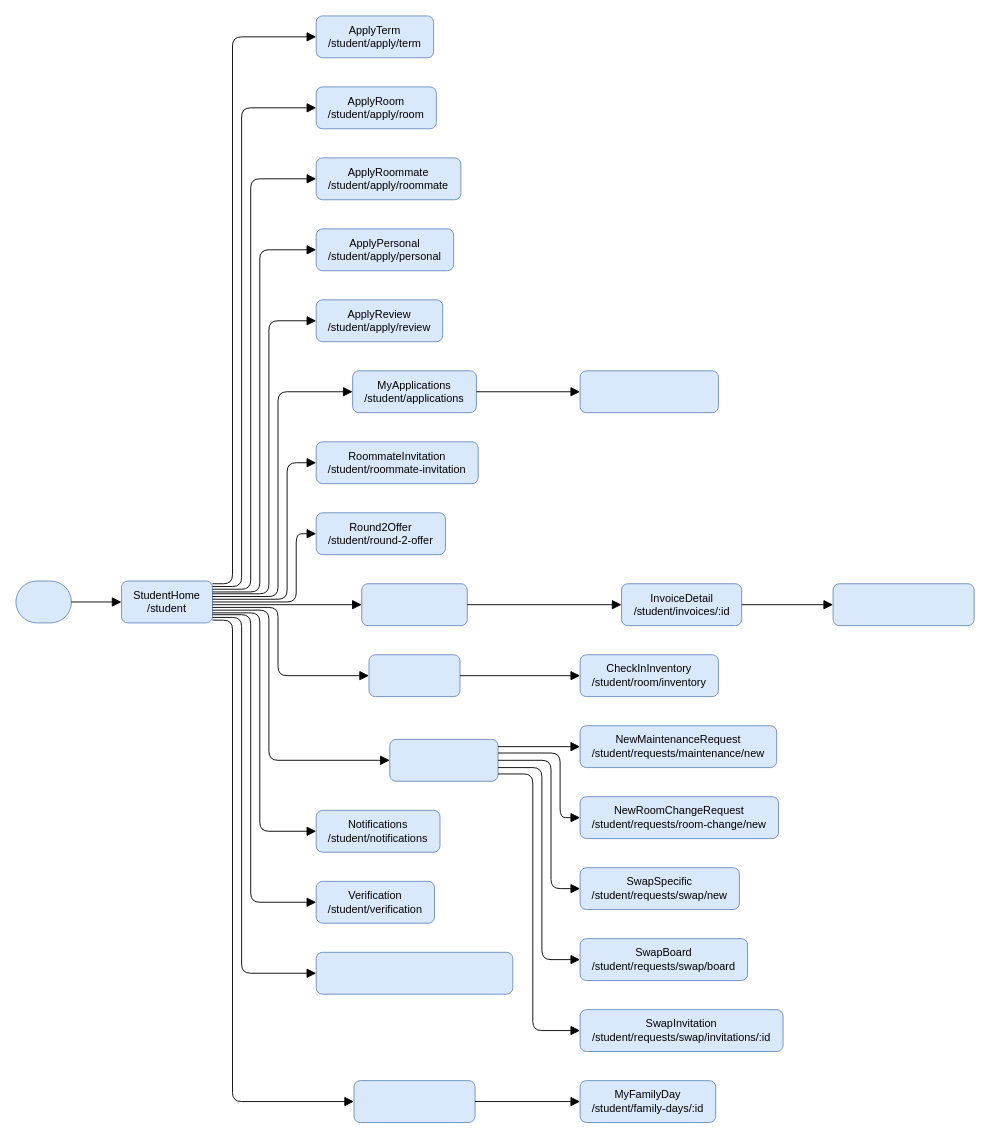
This 990x1138 diagram has some shape labels left out. Each missing label, with the centre of its shape:
"ApplicationDetail /student/applications/:id" belongs at point (648, 391).
"InvoicePayment /student/invoices/:id/pay" belongs at point (903, 604).
"MyFamilyDays /student/family-days" belongs at point (414, 1101).
"MyInvoices /student/invoices" belongs at point (414, 604).
"MyRequests /student/requests" belongs at point (443, 759).
"MyRoom /student/room" belongs at point (414, 675).
"RegistrationPeriod /student/registration-periods/:termId" belongs at point (414, 972).
"SignIn /signin" belongs at point (43, 601).
